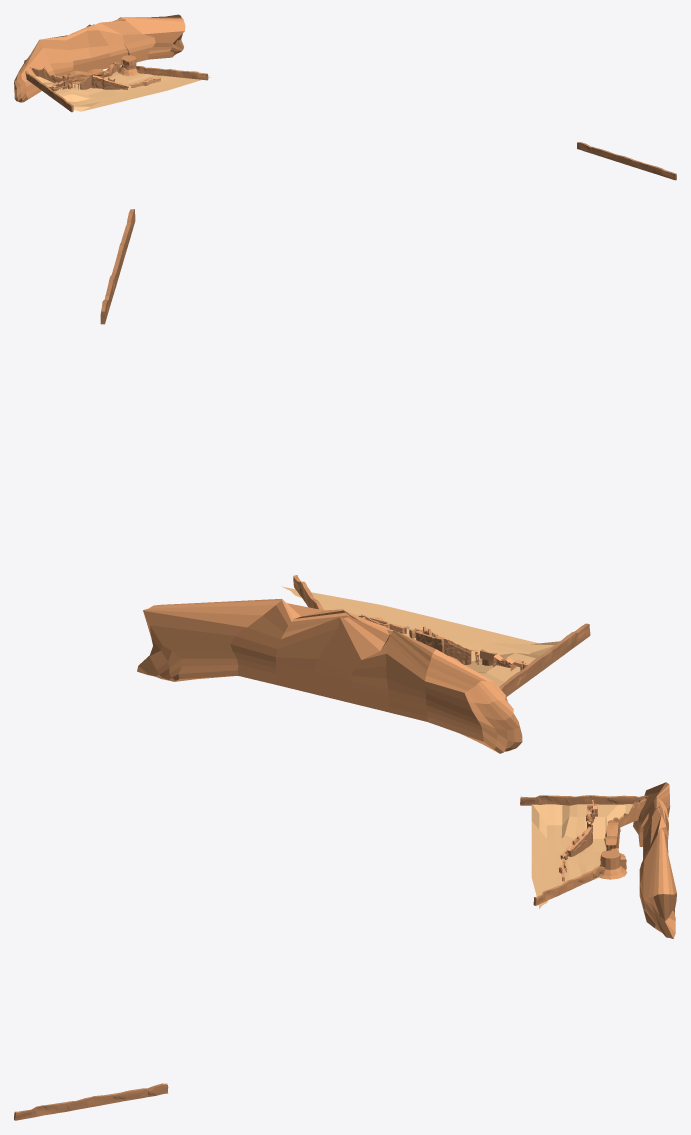
The model's file is level1.fbx.
3 renders of one model, top to bottom at view 1: azimuth 30°, elevation 25°; view 2: azimuth 150°, elevation 25°; view 3: azimuth 270°, elevation 25°, orthographic. The views are drawn at different scales.
Parts seen in each view (by area): view 1: Mountain, Plane.001, Cube.008, Cube.014, Cube.004, Cylinder, Cube.013, Cube.009, Cube.003; view 2: Mountain, Plane.001, Cube.004, Cube.008; view 3: Plane.001, Mountain, Cube.008, Cube.004, Cube.014, Cylinder.
Part boxes in pixels (<box>): Mountain: <box>14,14,185,102</box>; Plane.001: <box>34,72,210,111</box>; Cube.008: <box>577,142,676,180</box>; Cube.014: <box>136,66,208,80</box>; Cube.004: <box>25,70,73,112</box>; Cylinder: <box>117,55,139,76</box>; Cube.013: <box>67,69,104,85</box>; Cube.009: <box>91,76,128,89</box>; Cube.003: <box>30,67,67,82</box>; Mountain: <box>137,599,522,753</box>; Plane.001: <box>281,586,559,686</box>; Cube.004: <box>499,623,590,696</box>; Cube.008: <box>100,209,135,324</box>; Plane.001: <box>531,804,632,908</box>; Mountain: <box>633,782,676,938</box>; Cube.008: <box>14,1083,168,1120</box>; Cube.004: <box>520,795,646,805</box>; Cube.014: <box>533,866,605,905</box>; Cylinder: <box>599,850,627,879</box>.
Size of the model in its own units: 177672 by 25423 by 176871.
